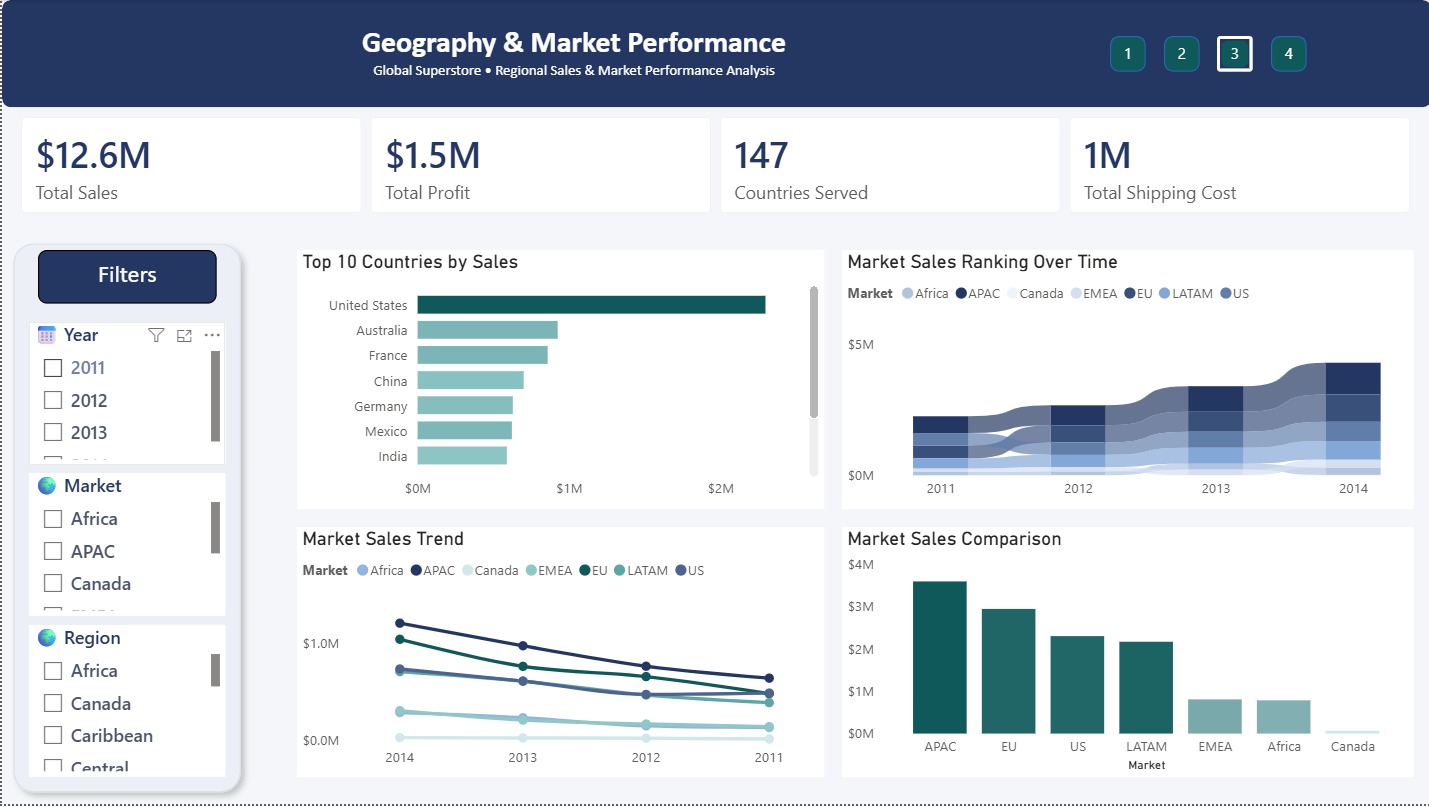

The page's visual inventory and layout, read from the dashboard file:
{"tool":"powerbi","page":{"name":"Page 3","canvas":[1280,720],"ordinal":2},"visuals":[{"type":"shape","box":[0,0,1280,96],"z":0},{"type":"textbox","box":[32,16,960,64],"z":1000},{"type":"shape","title":"1","box":[1136.2,32,32,32],"z":2000},{"type":"shape","title":"1","box":[1088.2,32,32,32],"z":3000},{"type":"shape","title":"1","box":[1040.2,32,32,32],"z":4000},{"type":"shape","title":"1","box":[992.2,32,32,32],"z":5000},{"type":"cardVisual","fields":{"Data":["Measures (2).Total Sales","Measures (2).Total Profit","Measures (2).Countries Served","Measures (2).Total Shipping Cost"]},"box":[0,88,1280,120],"z":6000},{"type":"clusteredBarChart","title":"Top 10 Countries by Sales","fields":{"Category":["superstore.Country"],"Y":["Measures (2).Total Sales"]},"box":[264,224,472,232],"z":7000},{"type":"clusteredColumnChart","title":"Market Sales Comparison","fields":{"Category":["superstore.Market"],"Y":["Measures (2).Total Sales"]},"box":[752,472,512,224],"z":8000},{"type":"lineChart","title":"Market Sales Trend","fields":{"Category":["Calendar.Year"],"Series":["superstore.Market"],"Y":["Measures (2).Total Sales"]},"box":[264,472,472,224],"z":9000},{"type":"shape","box":[0,208,224,512],"z":10000},{"type":"ribbonChart","title":"Market Sales Ranking Over Time","fields":{"Y":["Measures (2).Total Sales"],"Category":["Calendar.Year"],"Series":["superstore.Market"]},"box":[752,224,512,232],"z":11000},{"type":"textbox","box":[32,224,160,48],"z":12000},{"type":"slicer","title":"🌍 Region","fields":{"Values":["superstore.Region"]},"box":[24,560,176,136],"z":13000},{"type":"slicer","title":"🌍 Market","fields":{"Values":["superstore.Market"]},"box":[24,424,176,128],"z":14000},{"type":"slicer","title":"📅 Year","fields":{"Values":["Calendar.Year"]},"box":[24,288,176,128],"z":15000},{"type":"actionButton","box":[992.2,32,32,32],"z":16000},{"type":"actionButton","box":[1040.2,32,32,32],"z":17000},{"type":"actionButton","box":[1136.2,32,32,32],"z":18000}]}

Visuals, with their boxes in screenshot pixels (x1, y1, x2, y2), scaled from the page's 1280x720 canvas onto the 1429x807 screenshot:
shape: 0, 0, 1428, 108
textbox: 36, 18, 1107, 90
"1" shape: 1268, 36, 1304, 72
"1" shape: 1215, 36, 1251, 72
"1" shape: 1161, 36, 1197, 72
"1" shape: 1108, 36, 1143, 72
cardVisual - Measures (2).Total Sales x Measures (2).Total Profit: 0, 99, 1428, 233
"Top 10 Countries by Sales" clusteredBarChart: 295, 251, 822, 511
"Market Sales Comparison" clusteredColumnChart: 840, 529, 1411, 780
"Market Sales Trend" lineChart: 295, 529, 822, 780
shape: 0, 233, 250, 806
"Market Sales Ranking Over Time" ribbonChart: 840, 251, 1411, 511
textbox: 36, 251, 214, 305
"🌍 Region" slicer: 27, 628, 223, 780
"🌍 Market" slicer: 27, 475, 223, 619
"📅 Year" slicer: 27, 323, 223, 466
actionButton: 1108, 36, 1143, 72
actionButton: 1161, 36, 1197, 72
actionButton: 1268, 36, 1304, 72
